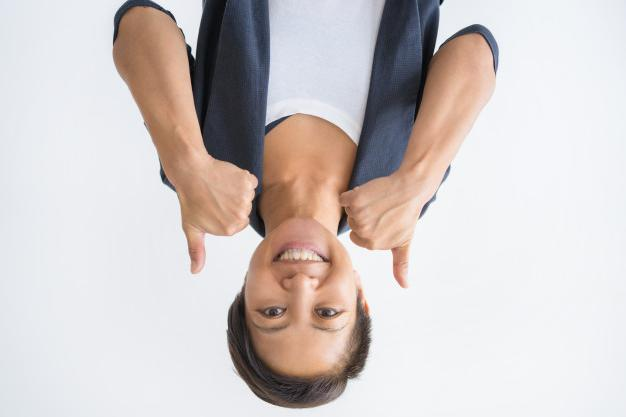thumbsdown: (188, 171, 259, 275), (338, 191, 410, 289)
